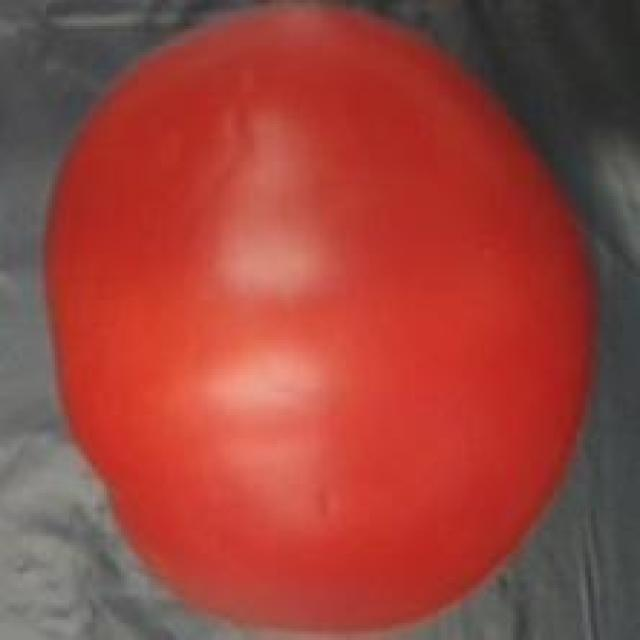ripe tomato: (38, 3, 602, 640)
